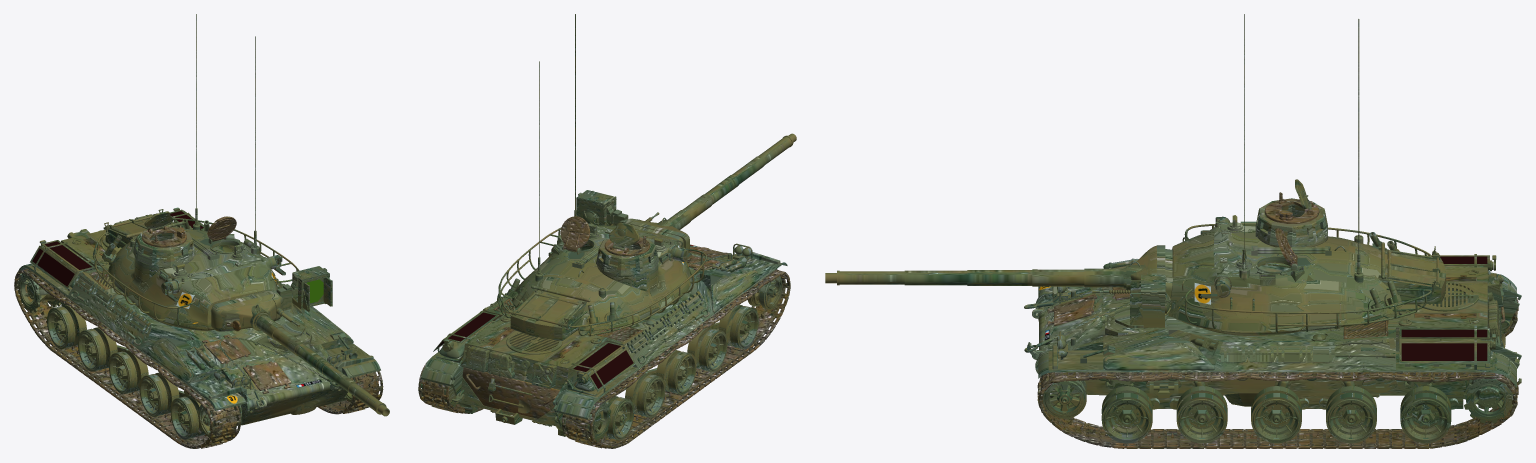
The model's file is amx-30-tank.glb.
The picture shows the model from 3 angles, left to right: view 1: azimuth 30°, elevation 25°; view 2: azimuth 150°, elevation 25°; view 3: azimuth 270°, elevation 25°; orthographic projection. The views are drawn at different scales.
Visible parts, largest first — view 1: AMXANTEN_UNCLES_0, amxtr_TRACKS_0, AMXMESH_MESHES_0; view 2: AMXANTEN_UNCLES_0, amxtr_TRACKS_0, AMXMESH_MESHES_0; view 3: AMXANTEN_UNCLES_0, amxtr_TRACKS_0, AMXMESH_MESHES_0.
Boxes of the visible parts, x1=… form: AMXANTEN_UNCLES_0: x1=17, y1=14, x2=389, y2=439; amxtr_TRACKS_0: x1=14, y1=216, x2=383, y2=448; AMXMESH_MESHES_0: x1=32, y1=211, x2=203, y2=286; AMXANTEN_UNCLES_0: x1=420, y1=14, x2=796, y2=442; amxtr_TRACKS_0: x1=418, y1=216, x2=790, y2=448; AMXMESH_MESHES_0: x1=437, y1=312, x2=633, y2=388; AMXANTEN_UNCLES_0: x1=825, y1=14, x2=1521, y2=443; amxtr_TRACKS_0: x1=1037, y1=192, x2=1518, y2=448; AMXMESH_MESHES_0: x1=1401, y1=256, x2=1487, y2=360.
Bounding box in the file's own units: 3.7 × 6.99 × 10.74.
Materials: 6 (4 with a texture image).
